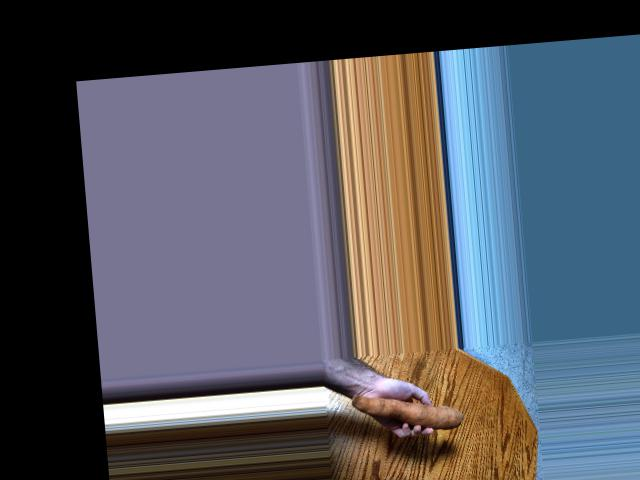sweet_potato: (355, 390, 467, 438)
